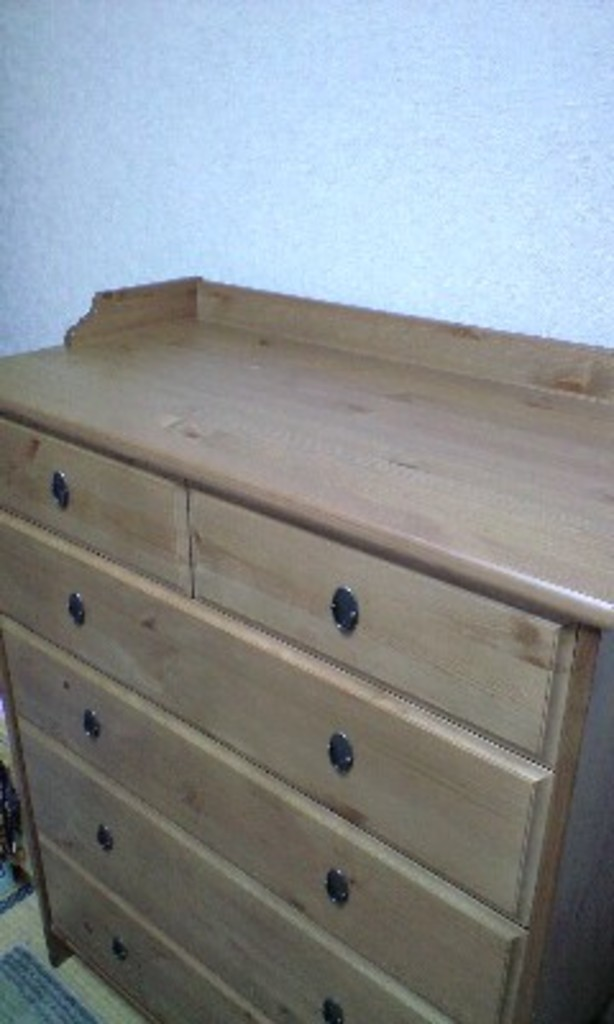cabinet door: (44, 671, 483, 914), (34, 592, 498, 775), (201, 513, 561, 714), (49, 814, 341, 971), (8, 434, 169, 550), (62, 899, 219, 1007)
handle: (321, 865, 353, 924), (322, 582, 356, 637), (328, 721, 354, 785), (80, 693, 101, 750), (95, 814, 117, 866), (68, 586, 88, 639), (48, 468, 71, 513), (320, 993, 345, 1024), (111, 932, 129, 974)
